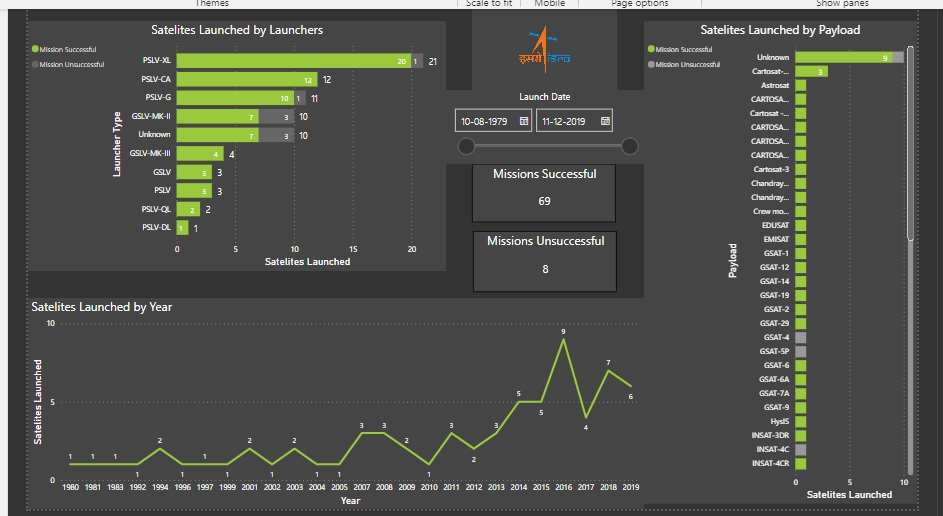

What the dashboard file says about the page in this screenshot:
{"tool":"powerbi","page":{"name":"Launchers","canvas":[1280,720],"ordinal":0},"visuals":[{"type":"barChart","title":"Satelites Launched by Launchers","fields":{"Category":["launchers.Launcher Type"],"Y":["CountNonNull(launchers.Name)"],"Series":["launchers.Remarks"]},"box":[0,17.3,601.9,360],"z":0},{"type":"lineChart","fields":{"Category":["launchers.Year"],"Y":["CountNonNull(launchers.SN)"]},"box":[0,416.6,886.9,304],"z":1},{"type":"card","title":"Missions Successful","fields":{"Values":["launchers.MisSuccessful"]},"box":[617.8,223.2,207.4,83.5],"z":2},{"type":"card","title":"Missions Unsuccessful","fields":{"Values":["launchers.MisUnSuccessful"]},"box":[617.8,319.7,207.4,87.8],"z":3},{"type":"slicer","title":"Launch Date","fields":{"Values":["launchers.Launch Date"]},"box":[601.9,116.6,236.2,96.5],"z":4},{"type":"barChart","title":"Satelites Launched by Payload","fields":{"Category":["launchers.Payload"],"Y":["CountNonNull(launchers.Name)"],"Series":["launchers.Remarks"]},"box":[886.9,16.8,393.1,695.4],"z":5},{"type":"image","box":[617.8,0,208.8,122.4],"z":6}]}

Visuals, with their boxes on the page's 1280x720 design canvas (x1, y1, x2, y2). These are canvas units, not pixel positions in the 943x516 screenshot, which may show the page scaled, cropped or inside an application window:
"Satelites Launched by Launchers" barChart: (0, 17, 602, 377)
lineChart - launchers.Year x CountNonNull(launchers.SN): (0, 417, 887, 721)
"Missions Successful" card: (618, 223, 825, 307)
"Missions Unsuccessful" card: (618, 320, 825, 408)
"Launch Date" slicer: (602, 117, 838, 213)
"Satelites Launched by Payload" barChart: (887, 17, 1280, 712)
image: (618, 0, 827, 122)
